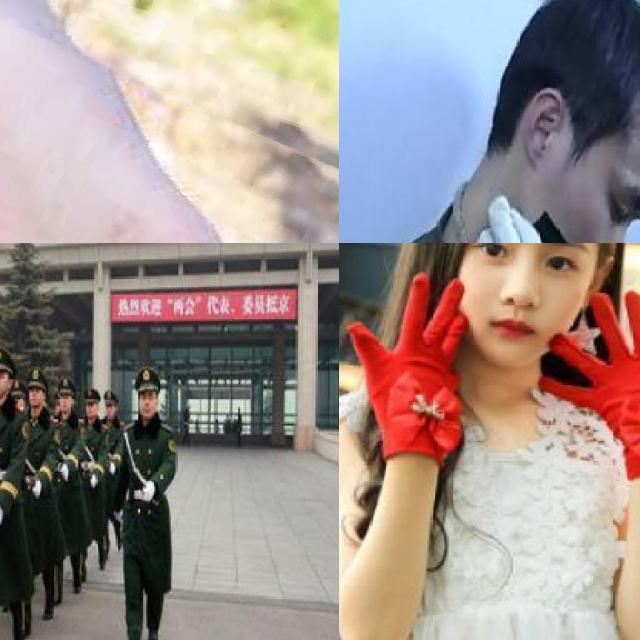Barefoots: (0, 0, 240, 243)
No_Ear-Protection: (518, 81, 569, 173)
No_Glasses: (470, 243, 583, 293)
face_nomask: (461, 243, 595, 347), (548, 118, 640, 243), (140, 389, 165, 416), (29, 387, 43, 409), (0, 373, 12, 397), (60, 392, 72, 416), (88, 402, 99, 420)
hand_glove: (340, 272, 472, 458), (538, 291, 640, 454), (466, 196, 582, 243), (142, 481, 154, 501), (32, 479, 42, 496), (60, 462, 69, 477), (89, 472, 97, 487), (110, 461, 116, 477)
head_nohelmet: (550, 0, 640, 143)
person: (339, 243, 640, 640), (106, 362, 184, 640), (19, 369, 60, 635), (0, 352, 26, 640), (50, 370, 82, 603), (76, 384, 104, 572)
shoes: (140, 620, 163, 640)
